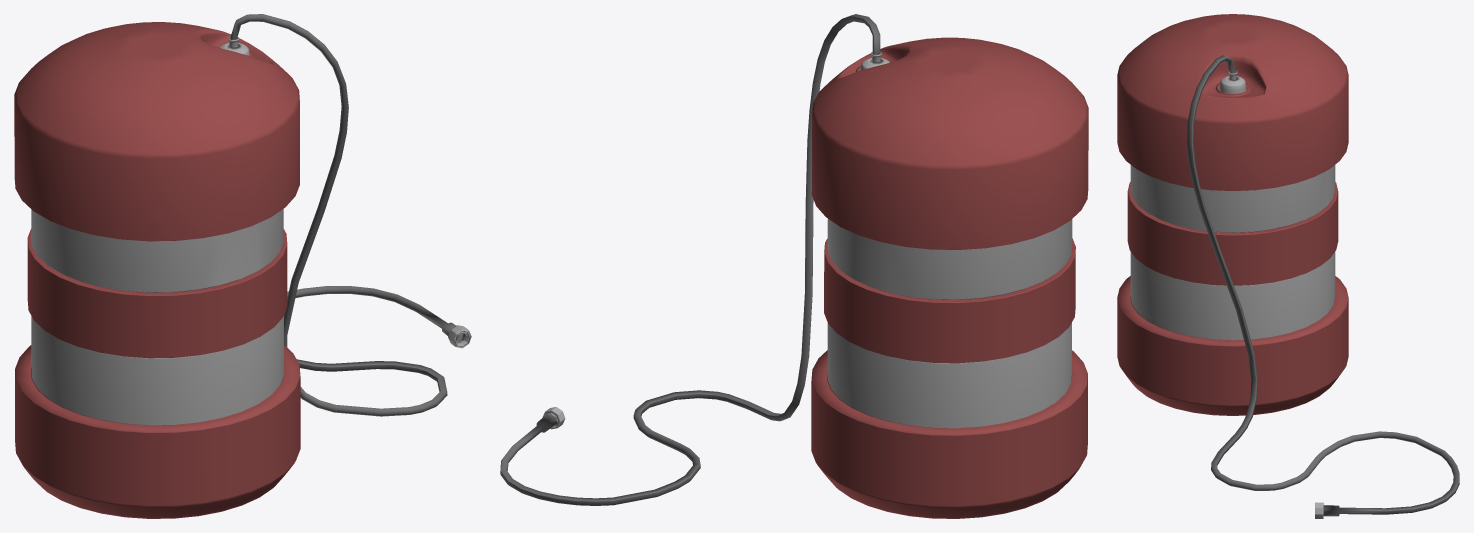
The model's file is o2Tank_shaded_v001.fbx.
The picture shows the model from 3 angles, left to right: view 1: azimuth 30°, elevation 25°; view 2: azimuth 150°, elevation 25°; view 3: azimuth 270°, elevation 25°; orthographic projection. The views are drawn at different scales.
Visible parts, largest first — view 1: gasTank_geo, pipe_geo; view 2: gasTank_geo, pipe_geo; view 3: gasTank_geo, pipe_geo.
Part boxes in pixels (x1,y1,x2,y2): gasTank_geo: (14, 22, 300, 518); pipe_geo: (230, 14, 465, 416); gasTank_geo: (811, 37, 1088, 518); pipe_geo: (500, 14, 880, 505); gasTank_geo: (1117, 14, 1348, 415); pipe_geo: (1187, 55, 1459, 516).
Size of the model in its own units: 98.59 by 84.93 by 73.93.
